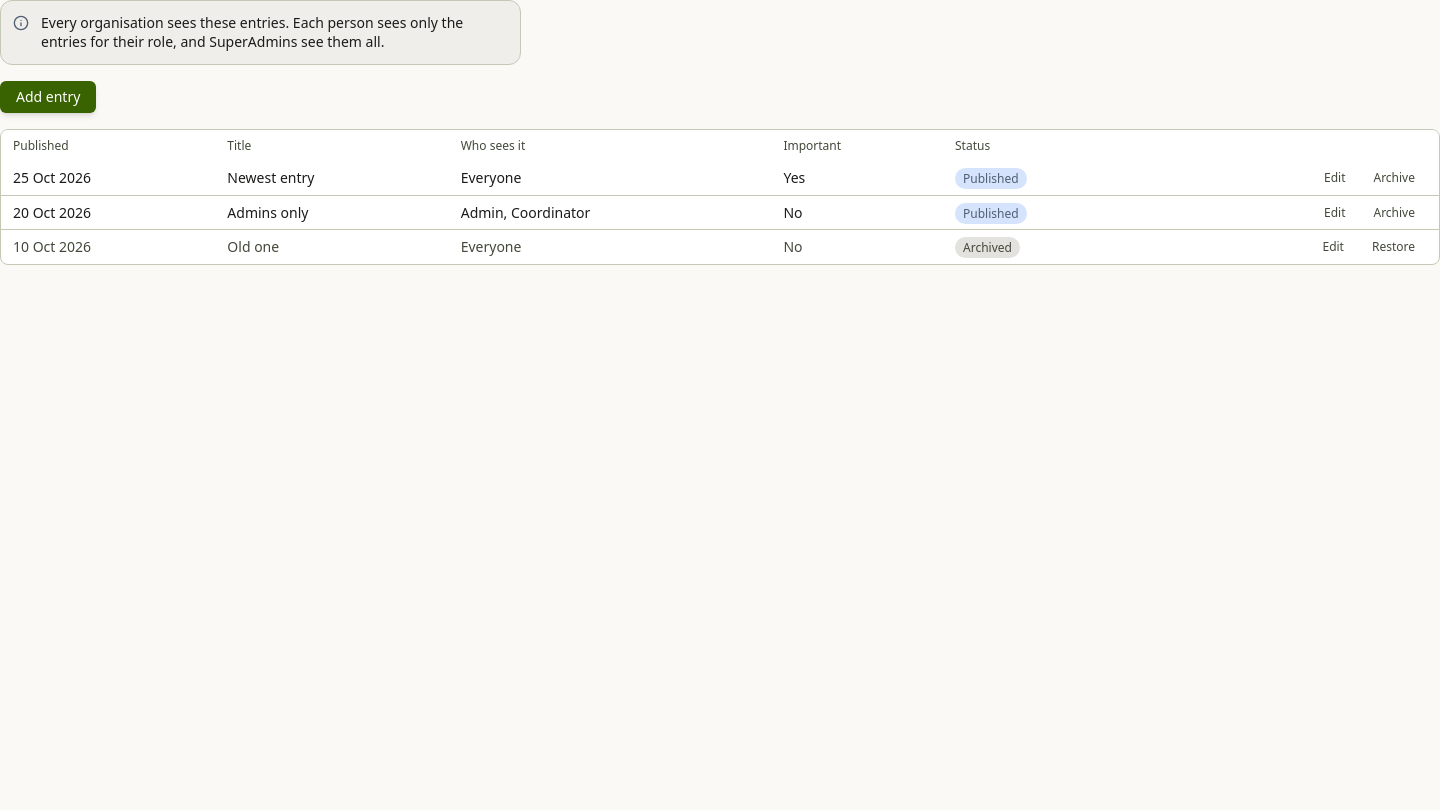
it: WhatsNewSection › V-S5: a failed archive says so above the table
The width and height of the screenshot is (1440, 810).
Expected: the text "Newest entry" is shown, [227,168,314,187]
Click the button with aria-label "Archive: Newest entry" at (1394, 178), box [1362,166,1427,190]
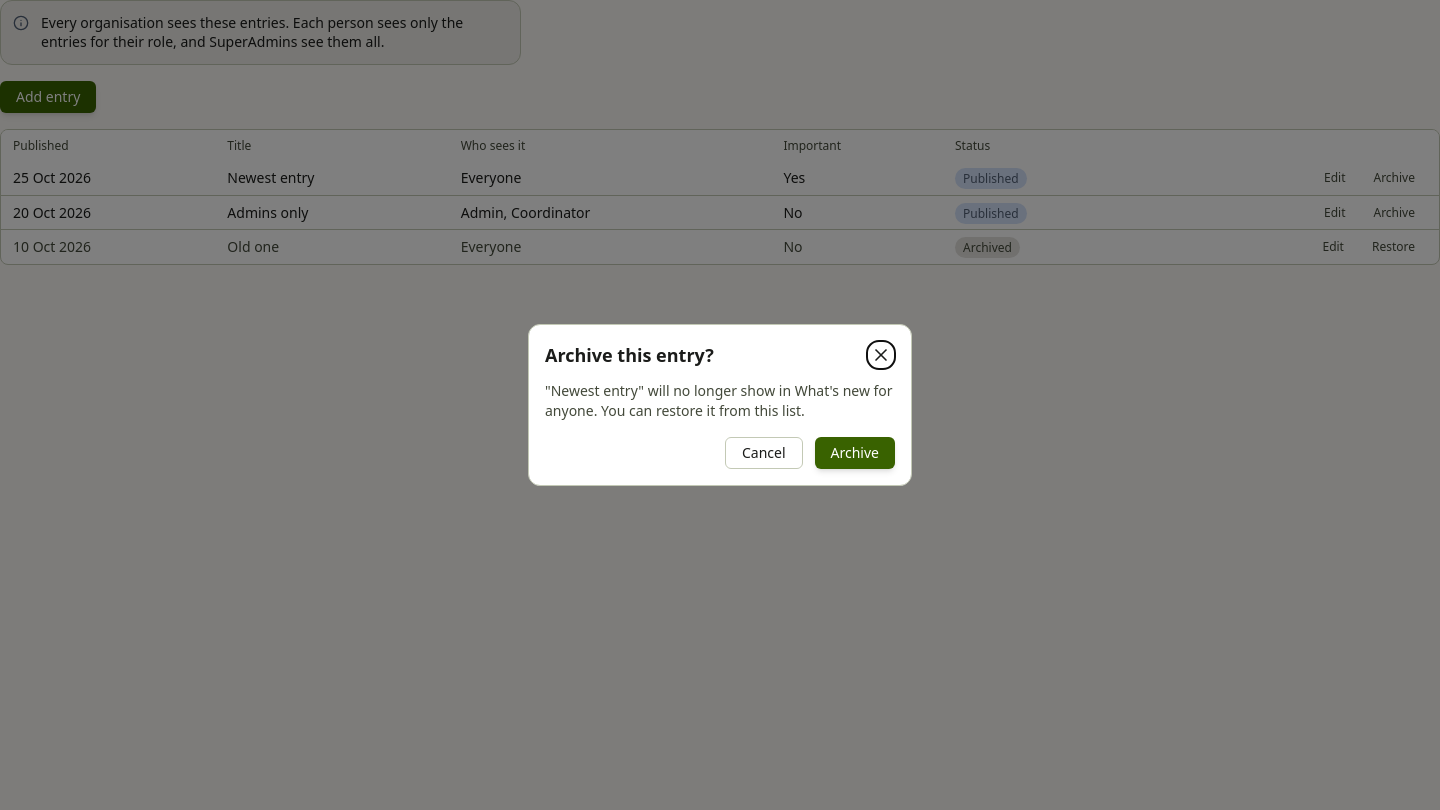
Click the button "Archive" at (855, 453), box [814,437,895,469]
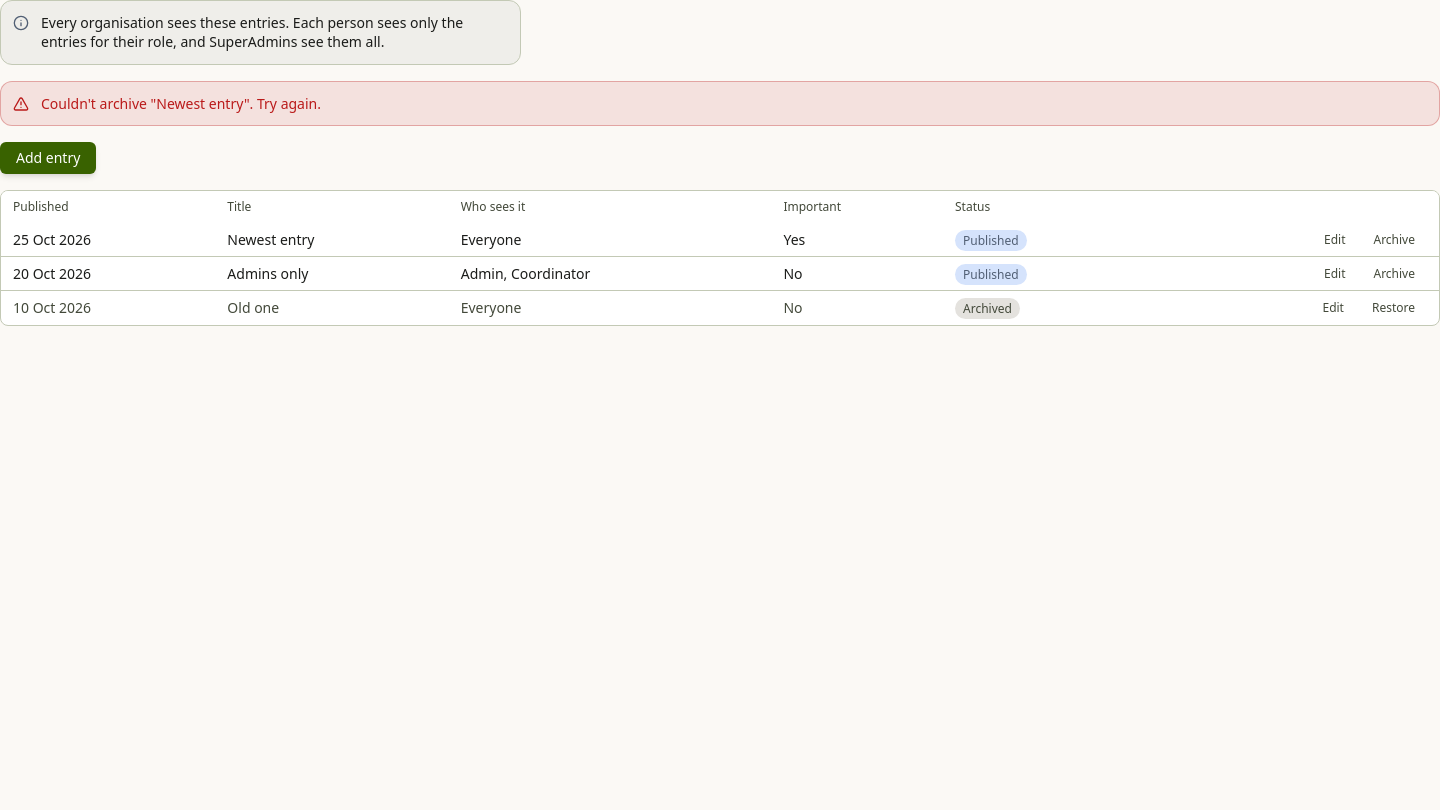
Expected: the text "Couldn't archive \"Newest entry\". Try again." is shown, [41,94,321,112]
